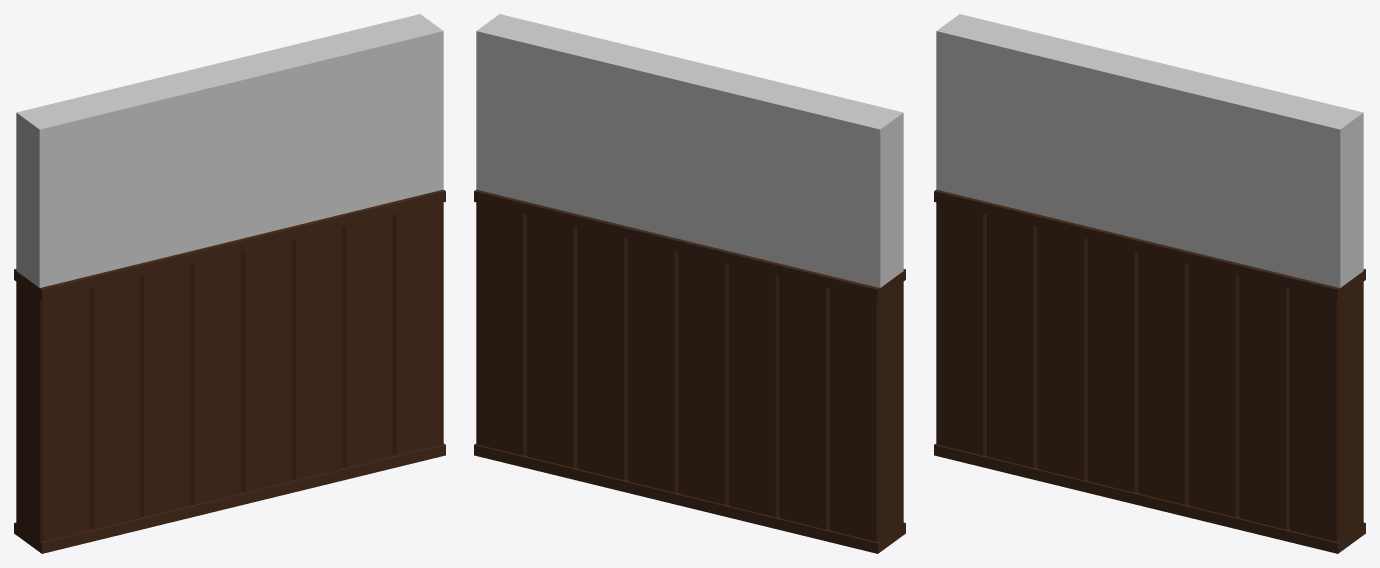
The model's file is Wall 1.fbx.
3 renders of one model, left to right at view 1: azimuth 30°, elevation 25°; view 2: azimuth 150°, elevation 25°; view 3: azimuth 330°, elevation 25°, orthographic.
Parts seen in each view (by area): view 1: Wall 1; view 2: Wall 1; view 3: Wall 1.
Part boxes in pixels (x1,y1,x2,y2): Wall 1: (14, 14, 445, 553); Wall 1: (474, 14, 905, 553); Wall 1: (934, 14, 1365, 553).
Bounding box in the file's own units: 20 × 20 × 2.4.
